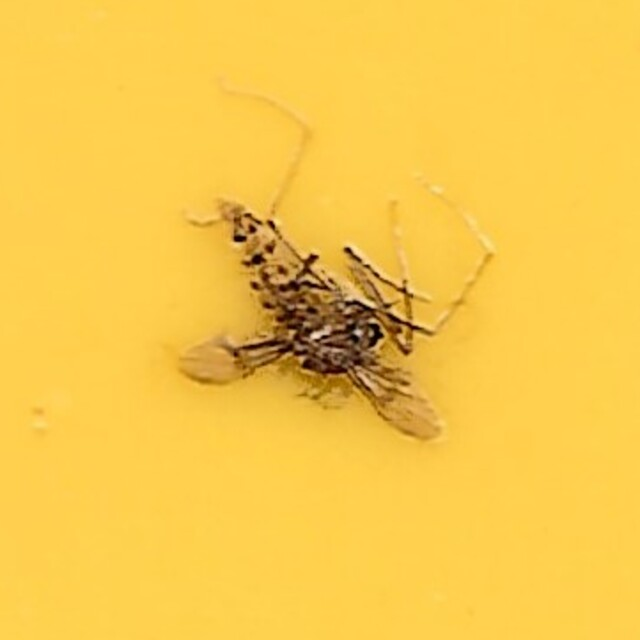Nematocera: (177, 190, 463, 450)
